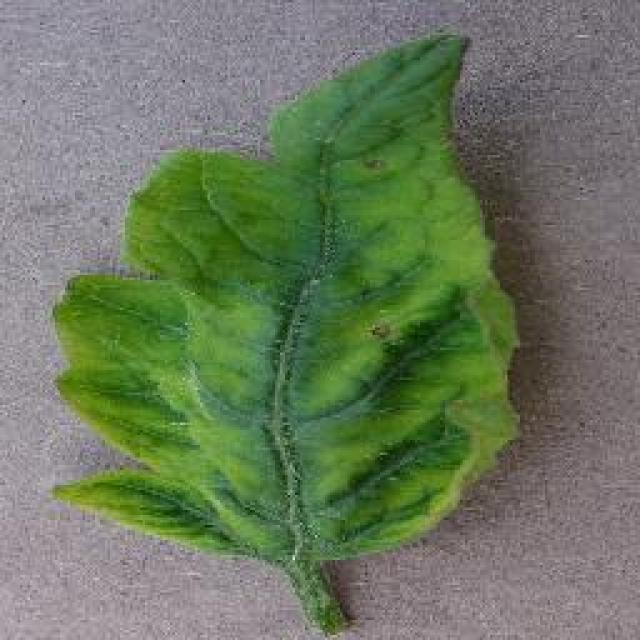Tomato yellow virus leaf: (49, 31, 506, 564)
